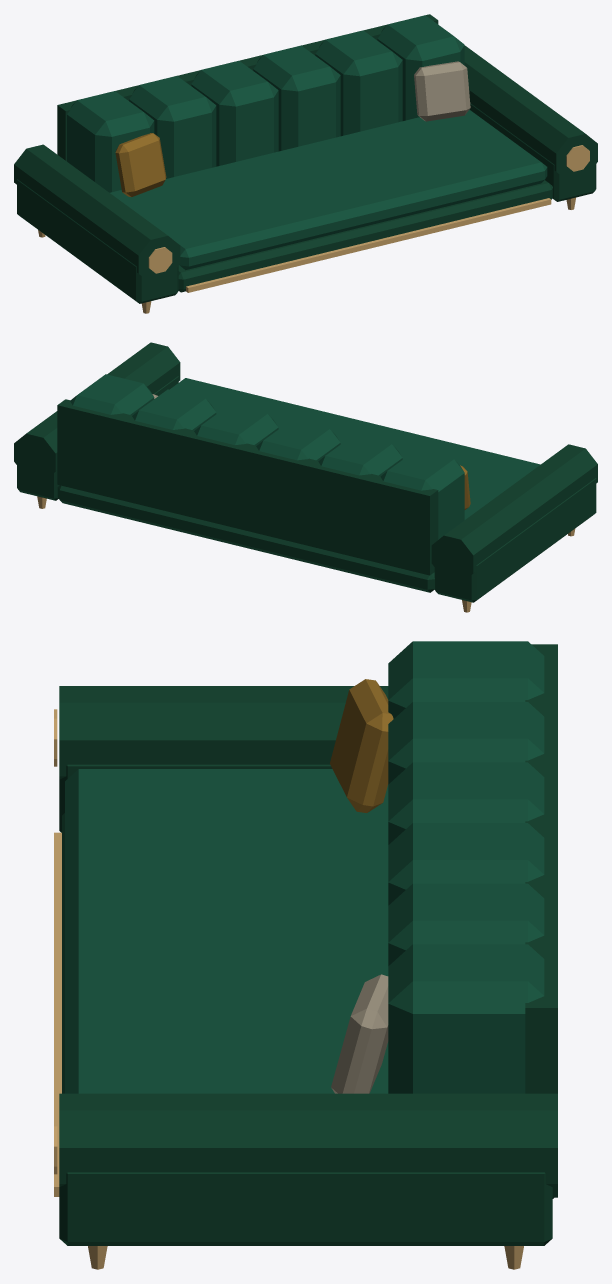
3 renders of one model, top to bottom at view 1: azimuth 30°, elevation 25°; view 2: azimuth 150°, elevation 25°; view 3: azimuth 270°, elevation 25°, orthographic. The views are drawn at different scales.
Visible parts, largest first — view 1: furniture_14_sofa_epic_velvet; view 2: furniture_14_sofa_epic_velvet; view 3: furniture_14_sofa_epic_velvet.
Boxes of the visible parts, left/top/right/bottom form: furniture_14_sofa_epic_velvet: left=14, top=14, right=597, bottom=313; furniture_14_sofa_epic_velvet: left=14, top=342, right=597, bottom=612; furniture_14_sofa_epic_velvet: left=54, top=641, right=557, bottom=1269.
Bounding box in the file's own units: 3.88 × 1 × 1.84.
